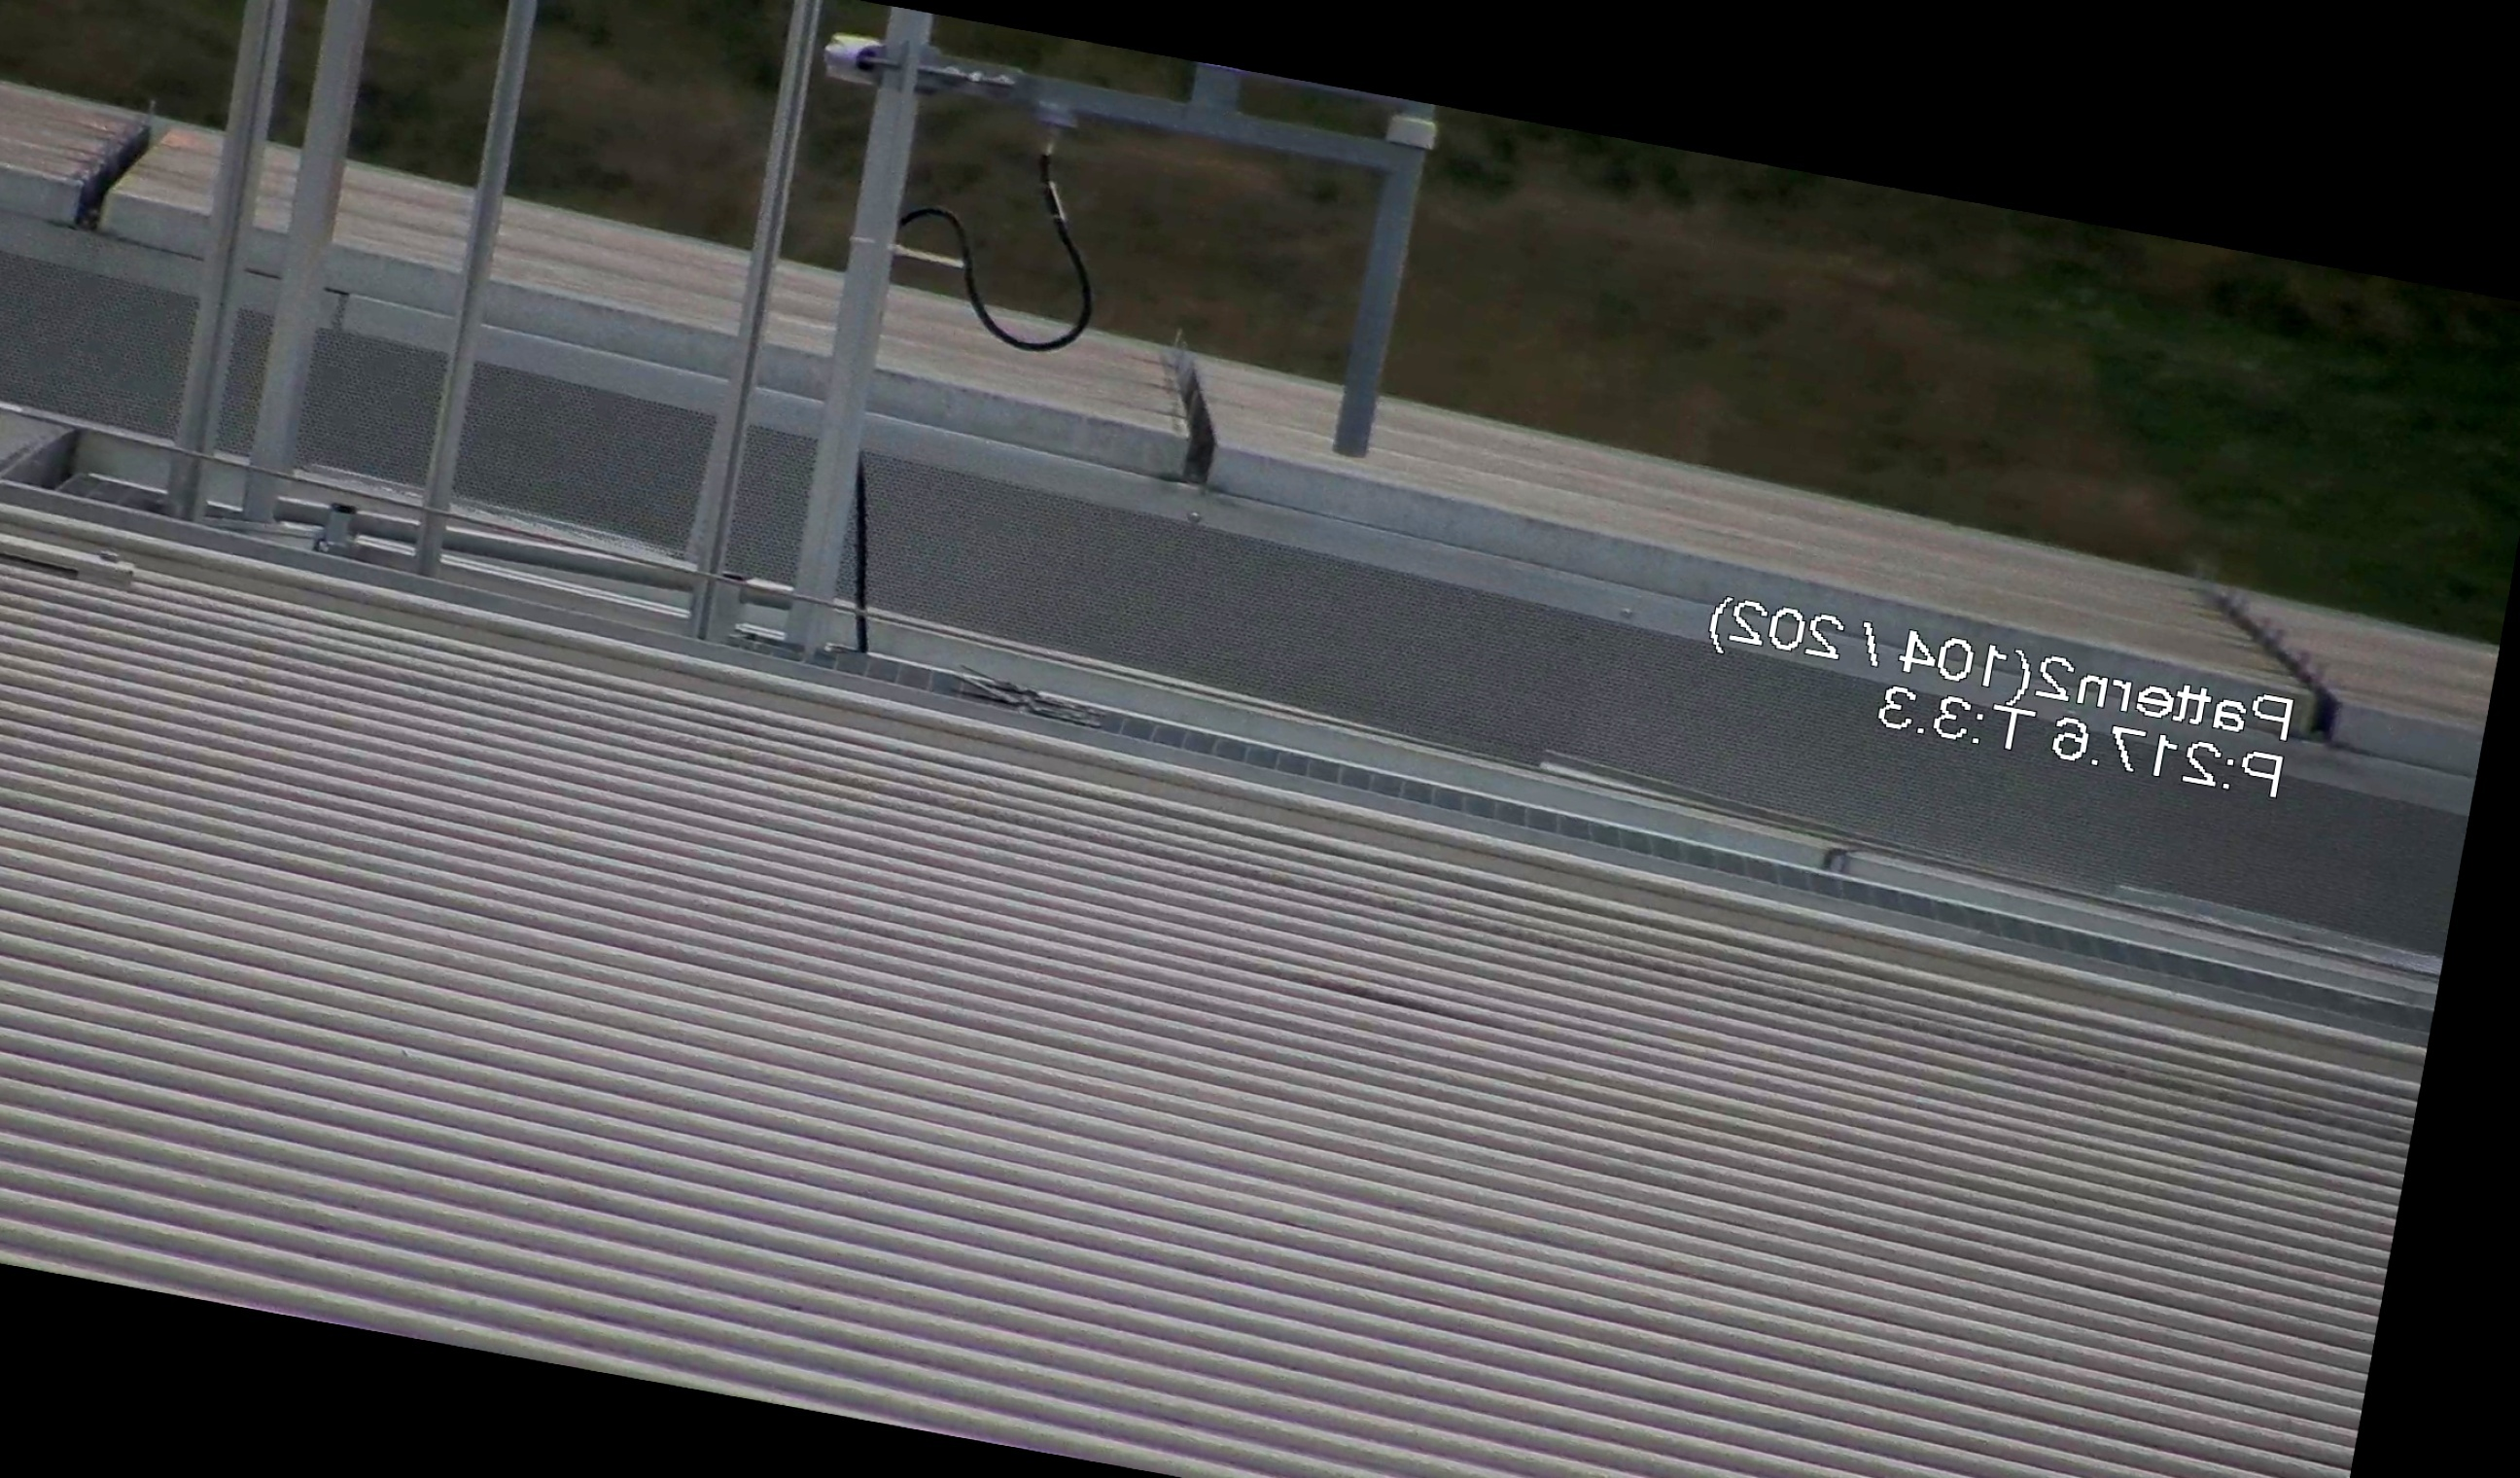Other: (33, 84, 164, 241)
